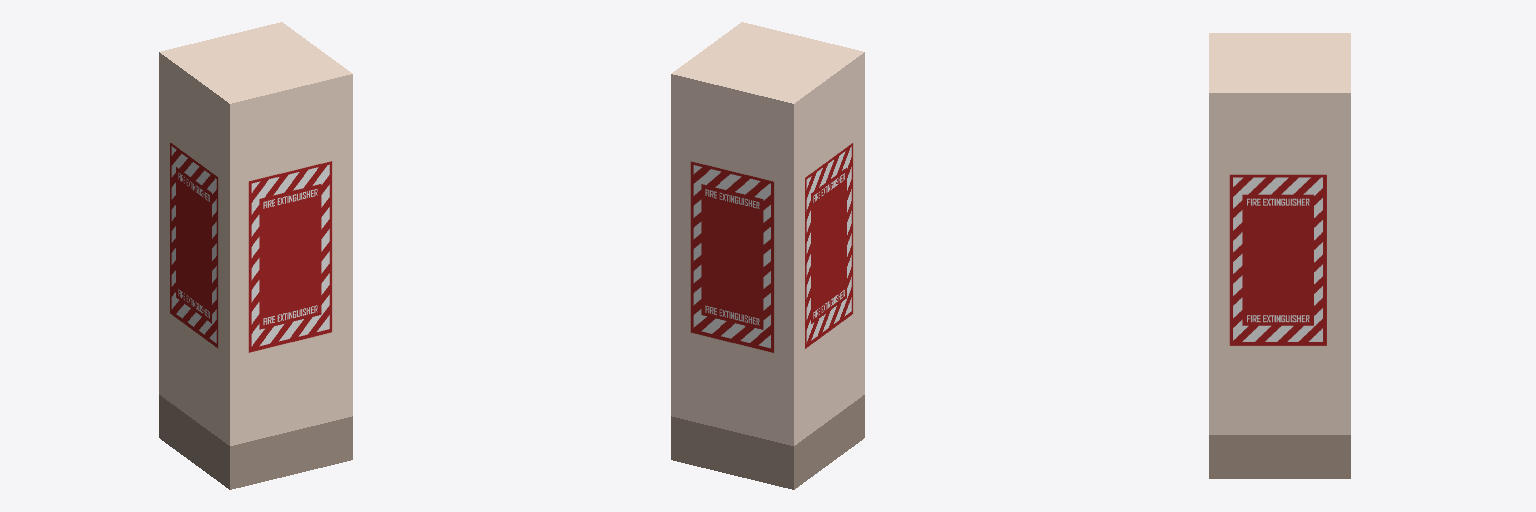
3 renders of one model, left to right at view 1: azimuth 30°, elevation 25°; view 2: azimuth 150°, elevation 25°; view 3: azimuth 270°, elevation 25°, orthographic.
Visible parts, largest first — view 1: Cube; view 2: Cube; view 3: Cube.
Boxes of the visible parts, x1,y1,x2,y2 form: Cube: [159, 22, 352, 489]; Cube: [671, 22, 864, 489]; Cube: [1209, 33, 1350, 478].
Bounding box in the file's own units: 2 × 6 × 2.
1 materials, 1 textured.